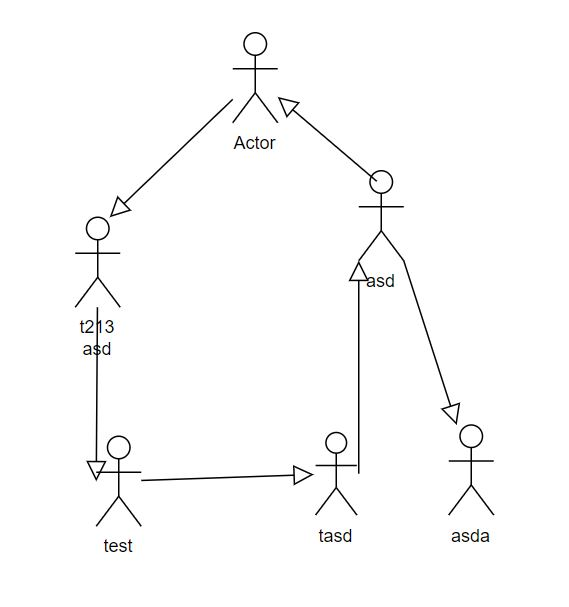actor: (358, 170, 407, 264), (74, 217, 124, 309), (448, 423, 495, 518), (232, 31, 279, 125), (96, 435, 140, 528), (314, 432, 358, 517)
generalization: (111, 99, 234, 216), (404, 263, 459, 425), (278, 97, 376, 181), (138, 466, 314, 489), (348, 261, 366, 476), (90, 308, 106, 482)
text: (78, 315, 116, 359), (448, 522, 492, 548), (232, 132, 281, 154), (314, 526, 356, 547), (100, 535, 137, 554), (365, 270, 396, 290)
